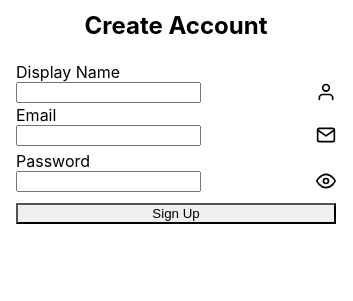
Scenario: Sign Up Form Testing › Should validate form fields on submit click
Click the button "Sign Up": (176, 213) [16,203,336,224]
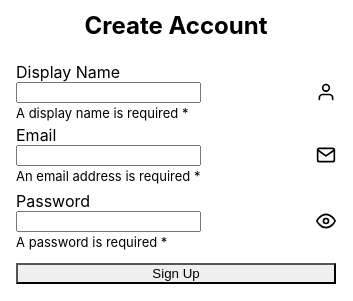
Result: the text with test id "emailError" reads "An email address is required *" at [16,168,200,184]
Result: the text with test id "passwordError" reads "A password is required *" at [16,234,167,250]
Result: the text with test id "displayNameError" reads "A display name is required *" at [16,105,188,121]
